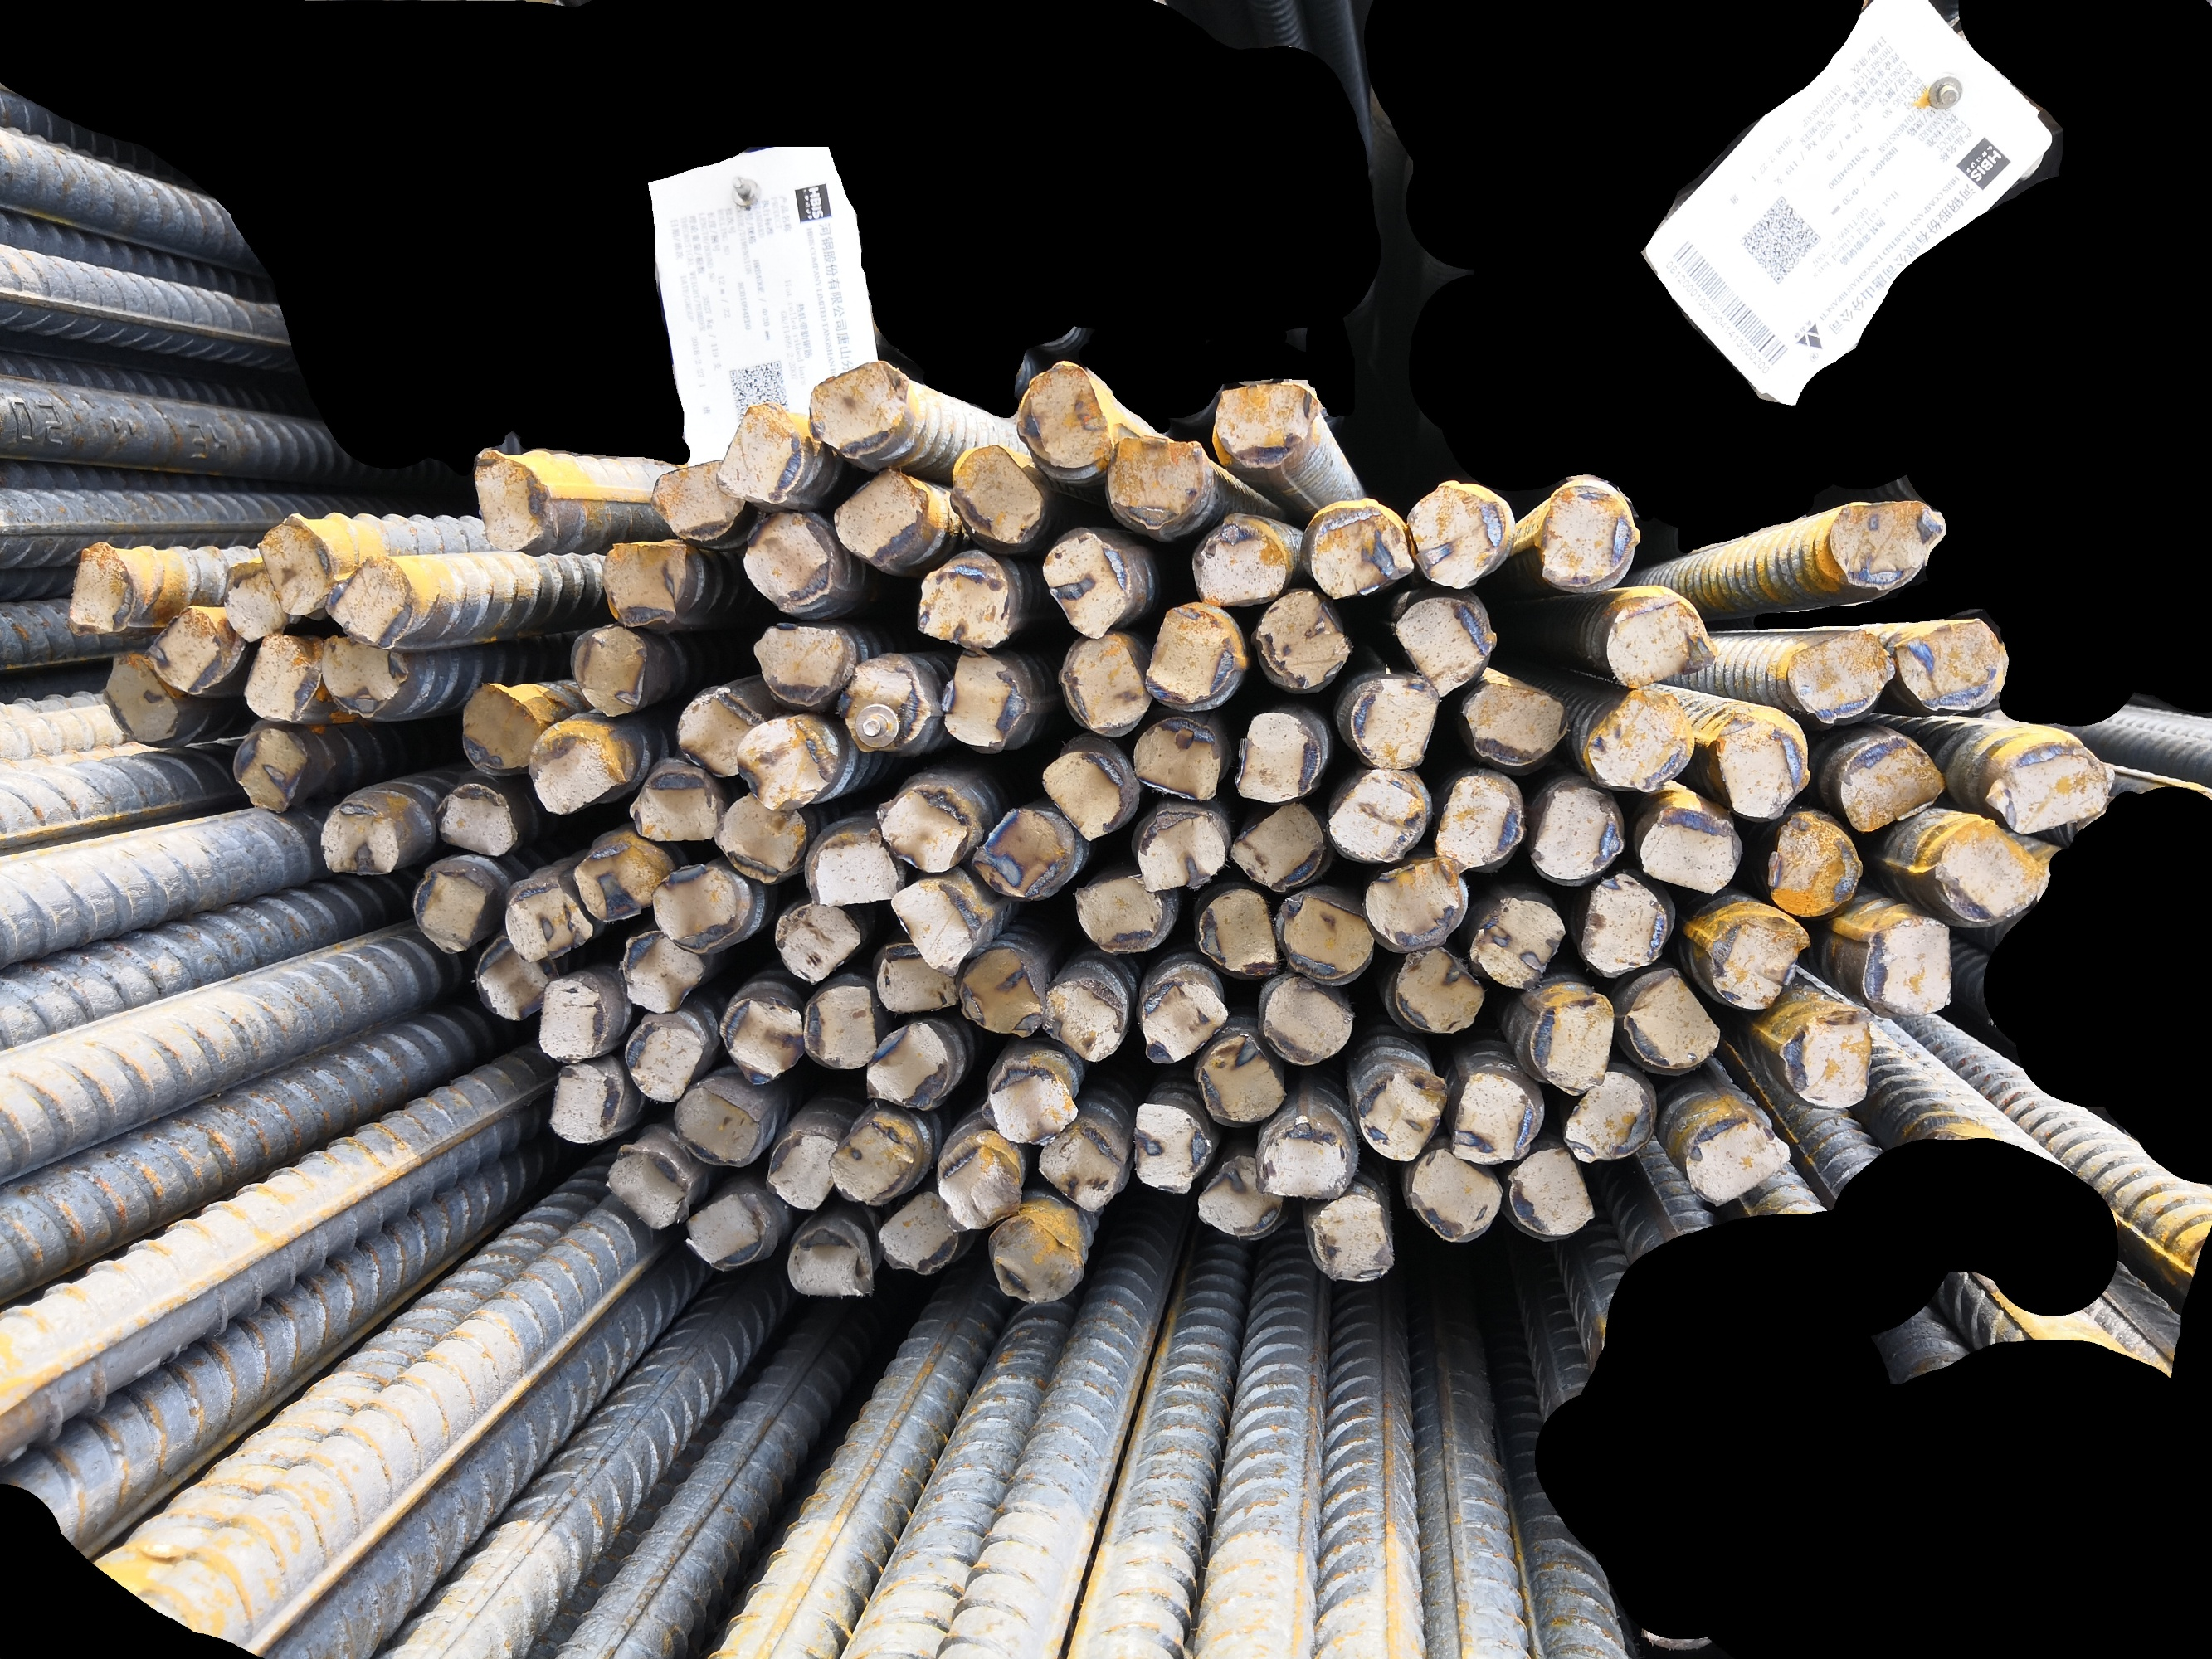rebar: (1576, 687, 1701, 796), (1930, 812, 2046, 927), (1980, 739, 2118, 835), (1537, 476, 1644, 598), (1778, 626, 1903, 727), (1886, 617, 2015, 714), (1830, 734, 1951, 838), (1605, 591, 1727, 694), (1712, 704, 1815, 826), (1825, 495, 1951, 594), (938, 439, 1051, 547), (1143, 598, 1252, 711), (1400, 479, 1508, 592), (1302, 498, 1417, 605), (1612, 967, 1729, 1072), (1569, 870, 1673, 985), (1034, 528, 1140, 640), (967, 800, 1081, 904), (1701, 911, 1816, 1014), (1009, 361, 1116, 471), (934, 640, 1037, 753), (1391, 594, 1501, 699), (1762, 810, 1867, 920), (1635, 798, 1748, 899), (1776, 1006, 1884, 1110), (732, 509, 842, 612), (910, 551, 1020, 653), (1680, 1110, 1795, 1208), (1253, 587, 1356, 695), (1325, 763, 1429, 868), (706, 399, 809, 505), (985, 1202, 1088, 1309), (1271, 882, 1377, 985), (1858, 913, 1961, 1019), (1360, 856, 1471, 953), (748, 620, 865, 713), (1455, 674, 1572, 767), (708, 782, 809, 889), (1337, 673, 1443, 774), (1400, 1145, 1506, 1246), (1527, 777, 1628, 884), (804, 359, 912, 458), (833, 650, 933, 756), (1252, 972, 1358, 1072), (1210, 378, 1325, 469), (1051, 633, 1154, 734), (1105, 432, 1210, 532), (1346, 1066, 1450, 1166), (1184, 511, 1290, 608), (830, 469, 933, 568), (1469, 890, 1569, 993), (1523, 990, 1618, 1098), (1192, 1025, 1292, 1126), (1128, 800, 1231, 897), (1555, 1072, 1663, 1164), (1435, 770, 1527, 878), (736, 714, 833, 816), (1302, 1185, 1400, 1286), (319, 551, 415, 653), (134, 601, 239, 695), (464, 446, 556, 552), (974, 1054, 1081, 1147), (246, 511, 336, 619), (305, 631, 415, 720), (1501, 1141, 1600, 1239), (650, 857, 751, 953), (521, 725, 624, 819), (1138, 969, 1236, 1066), (671, 681, 767, 781), (875, 775, 969, 877), (591, 537, 694, 629), (933, 1127, 1025, 1230), (858, 1016, 953, 1114), (1128, 713, 1227, 807), (763, 897, 865, 990), (1225, 802, 1328, 892), (1231, 708, 1323, 807), (1449, 1068, 1541, 1168), (610, 925, 711, 1016), (573, 836, 678, 924), (1252, 1117, 1356, 1204), (467, 927, 561, 1023), (885, 877, 974, 978), (645, 458, 751, 542), (565, 626, 657, 721), (718, 992, 809, 1089), (1389, 946, 1487, 1037), (1192, 884, 1281, 983), (1030, 1121, 1123, 1215), (453, 680, 544, 775), (666, 1079, 763, 1168), (1039, 748, 1126, 847), (91, 650, 181, 744), (237, 631, 326, 727), (499, 878, 596, 965), (953, 943, 1041, 1040), (1126, 1098, 1211, 1197), (1065, 875, 1173, 953), (1192, 1150, 1285, 1241), (685, 1182, 772, 1277), (406, 857, 488, 958), (824, 1117, 915, 1208), (870, 1188, 962, 1277), (1039, 972, 1124, 1068), (804, 829, 901, 911), (539, 1058, 624, 1150), (530, 969, 610, 1066), (61, 540, 138, 641), (225, 725, 312, 814), (619, 1019, 706, 1107), (605, 1147, 694, 1232), (798, 983, 884, 1072), (432, 777, 525, 859), (629, 767, 722, 847), (784, 1225, 880, 1300), (207, 558, 289, 645), (763, 1121, 838, 1215), (312, 802, 399, 880), (870, 948, 962, 1019)
